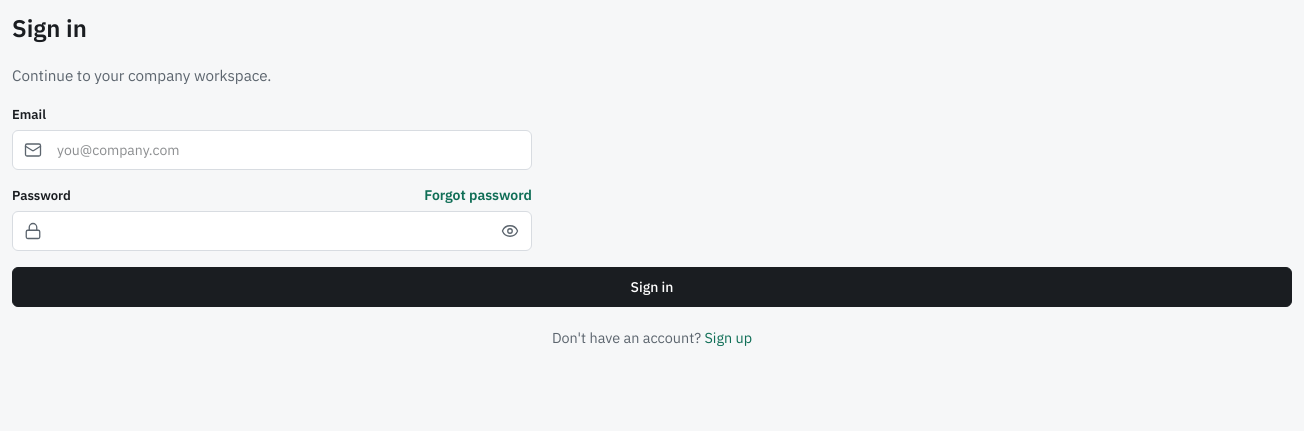
SignInForm › shows a generic Sign in failed banner without provider traces
The image size is (1304, 431).
Type "user@example.com" into the field labelled "Email" at (272, 150), box [12,130,532,170]
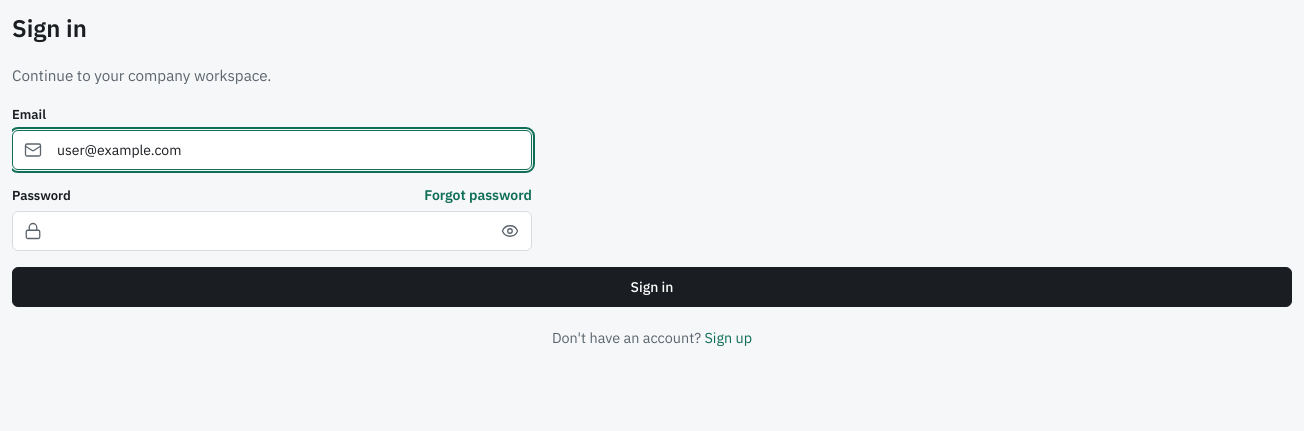
Type "secret" into the password field labelled "Password" at (272, 231), box [12,211,532,251]
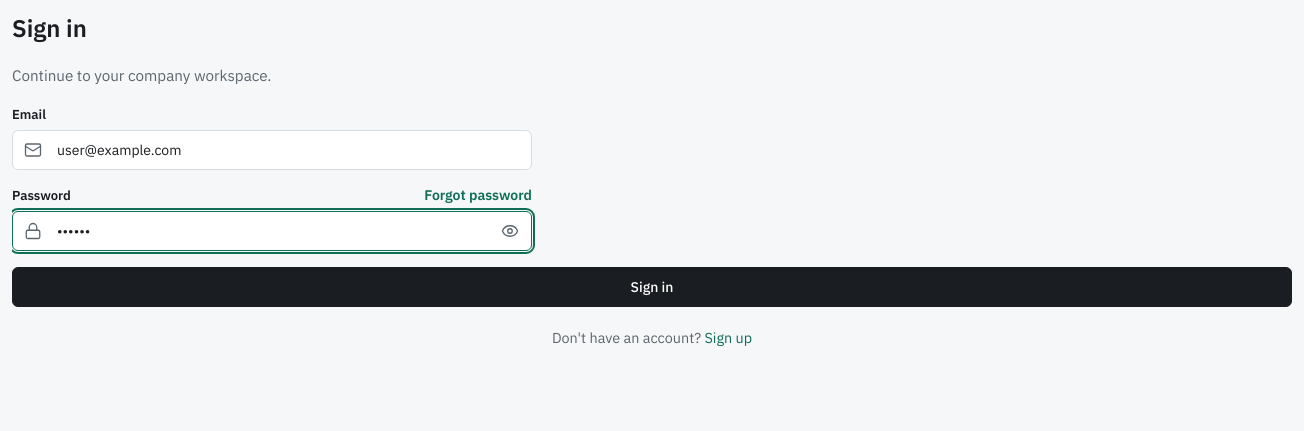
Click the button "Sign in" at (652, 287), box [12,267,1292,307]
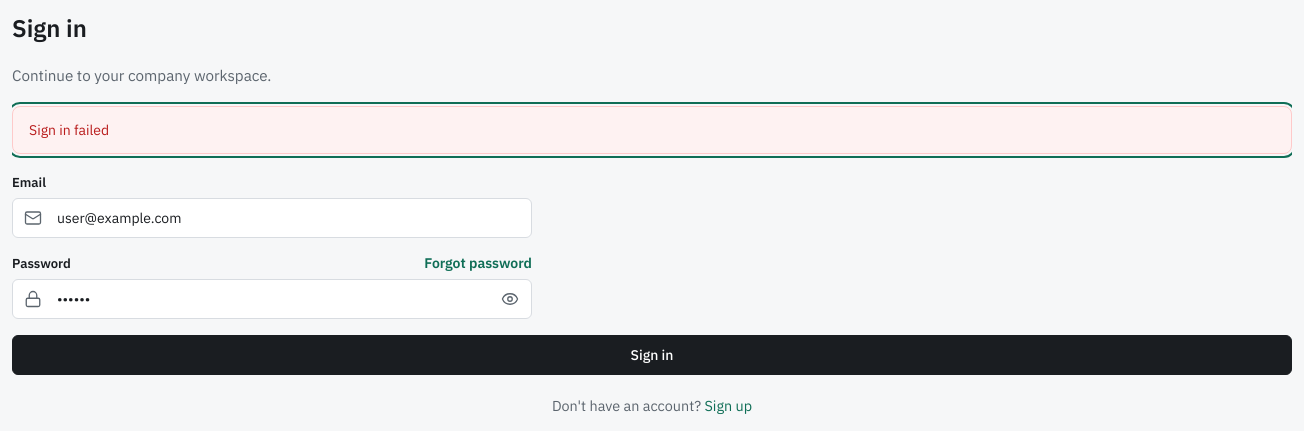
Expected: the message reads "Sign in failed", [29,121,109,139]
